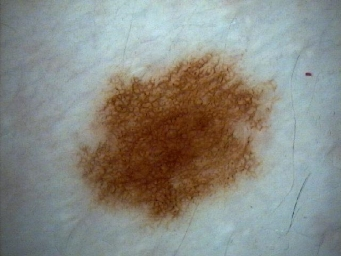nevus: (81, 56, 262, 216)
